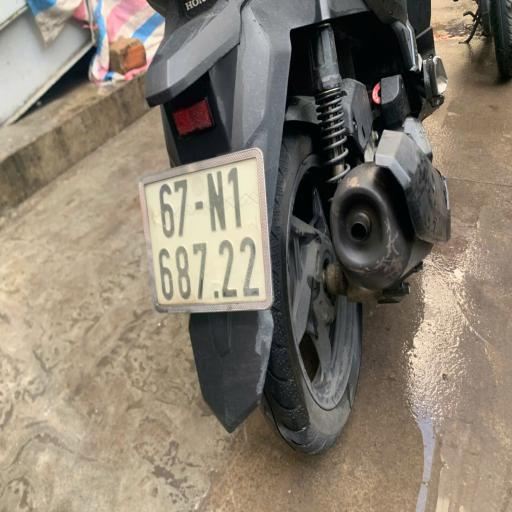1: (227, 162, 244, 234)
2: (214, 240, 240, 308), (236, 237, 262, 303)
6: (154, 248, 178, 316), (154, 180, 178, 244)
7: (188, 236, 210, 308), (172, 174, 188, 243)
8: (171, 238, 194, 304)
N: (204, 169, 230, 238)
